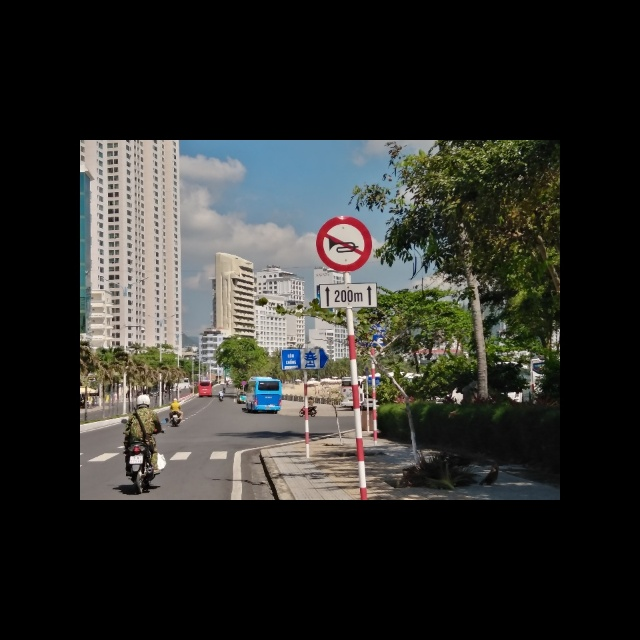Cấm bấm còi: (316, 215, 373, 271)
